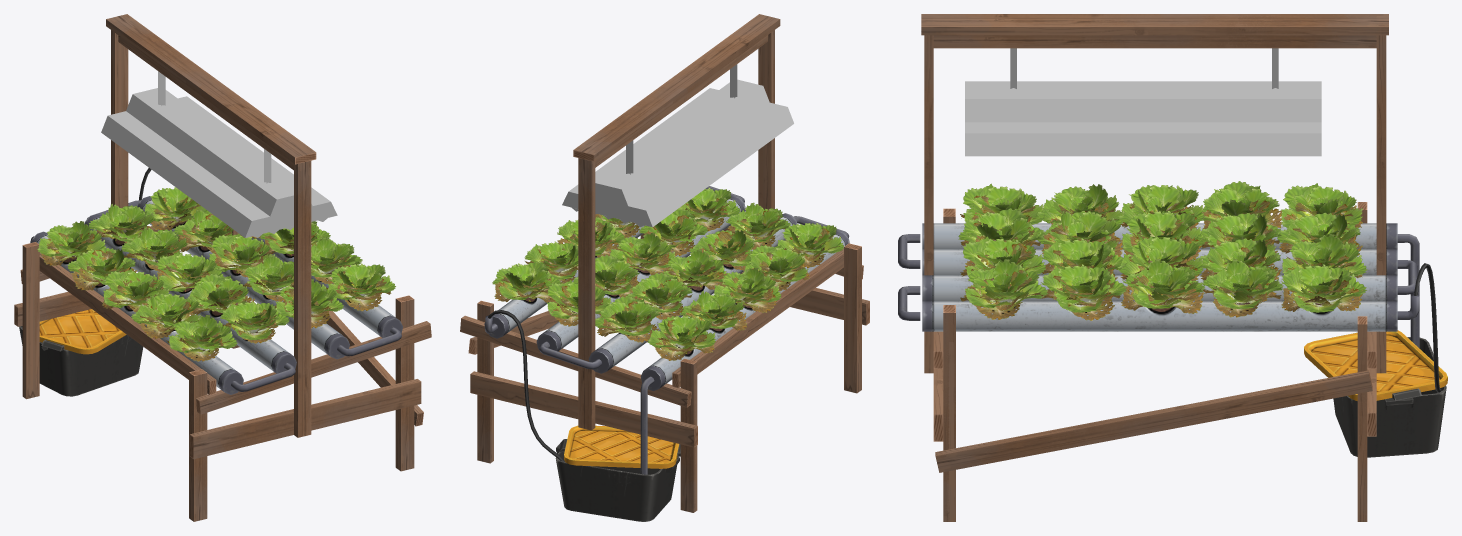
Rendered from hydroponics_H01_lettuce .fbx.
The picture shows the model from 3 angles, left to right: view 1: azimuth 30°, elevation 25°; view 2: azimuth 150°, elevation 25°; view 3: azimuth 270°, elevation 25°; orthographic projection. The views are drawn at different scales.
Parts seen in each view (by area): view 1: hydroponics_H01_lettuce, hydroponics_H01_lettuce _lamp, hydroponics_H01_lettuce _S3, hydroponics_H01_lettuce _S4, hydroponics_H01_lettuce _S2; view 2: hydroponics_H01_lettuce, hydroponics_H01_lettuce _lamp, hydroponics_H01_lettuce _S3, hydroponics_H01_lettuce _S4, hydroponics_H01_lettuce _S2, hydroponics_H01_lettuce _S1; view 3: hydroponics_H01_lettuce _lamp, hydroponics_H01_lettuce, hydroponics_H01_lettuce _S3, hydroponics_H01_lettuce _S4, hydroponics_H01_lettuce _S2.
Boxes of the visible parts, <box> form: hydroponics_H01_lettuce: <box>14,168,431,521</box>; hydroponics_H01_lettuce _lamp: <box>101,14,337,437</box>; hydroponics_H01_lettuce _S3: <box>37,187,395,352</box>; hydroponics_H01_lettuce _S4: <box>41,197,391,361</box>; hydroponics_H01_lettuce _S2: <box>50,198,376,350</box>; hydroponics_H01_lettuce: <box>460,186,869,521</box>; hydroponics_H01_lettuce _lamp: <box>562,14,793,430</box>; hydroponics_H01_lettuce _S3: <box>492,187,843,349</box>; hydroponics_H01_lettuce _S4: <box>494,198,839,360</box>; hydroponics_H01_lettuce _S2: <box>507,199,825,344</box>; hydroponics_H01_lettuce _S1: <box>521,201,820,341</box>; hydroponics_H01_lettuce _lamp: <box>921,14,1388,373</box>; hydroponics_H01_lettuce: <box>898,202,1447,521</box>; hydroponics_H01_lettuce _S3: <box>958,181,1367,312</box>; hydroponics_H01_lettuce _S4: <box>960,195,1363,320</box>; hydroponics_H01_lettuce _S2: <box>966,196,1351,304</box>.
Bounding box in the file's own units: 1.43 × 2 × 2.31.
